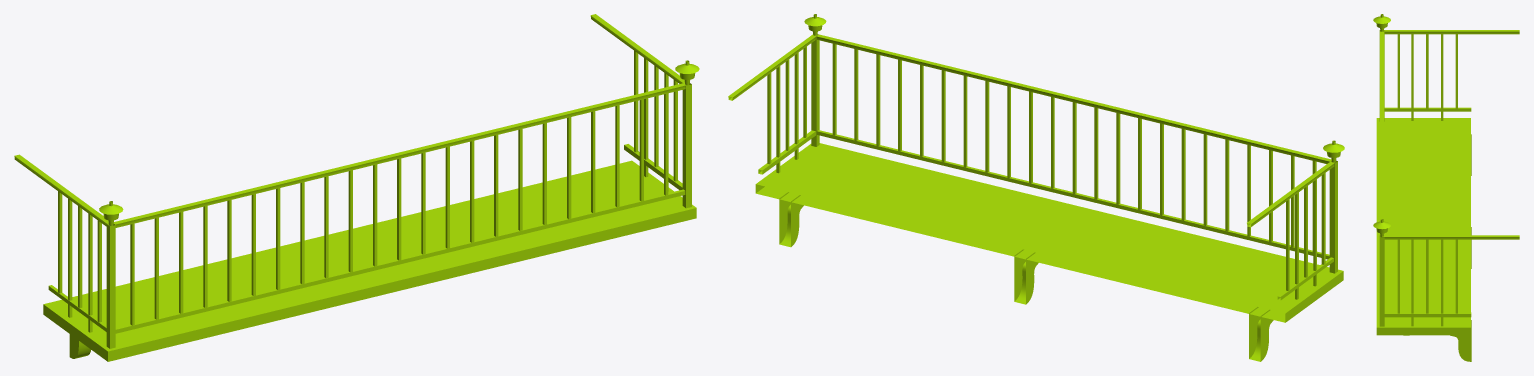
Rendered from Balcony.FBX.
The picture shows the model from 3 angles, left to right: view 1: azimuth 30°, elevation 25°; view 2: azimuth 150°, elevation 25°; view 3: azimuth 270°, elevation 25°; orthographic projection. The views are drawn at different scales.
Visible parts, largest first — view 1: Box3370; view 2: Box3370; view 3: Box3370.
Part boxes in pixels (x1=…): Box3370: x1=14, y1=14, x2=699, y2=361; Box3370: x1=728, y1=14, x2=1344, y2=361; Box3370: x1=1373, y1=14, x2=1519, y2=361.
Size of the model in its own units: 10 by 3.28 by 2.91.
